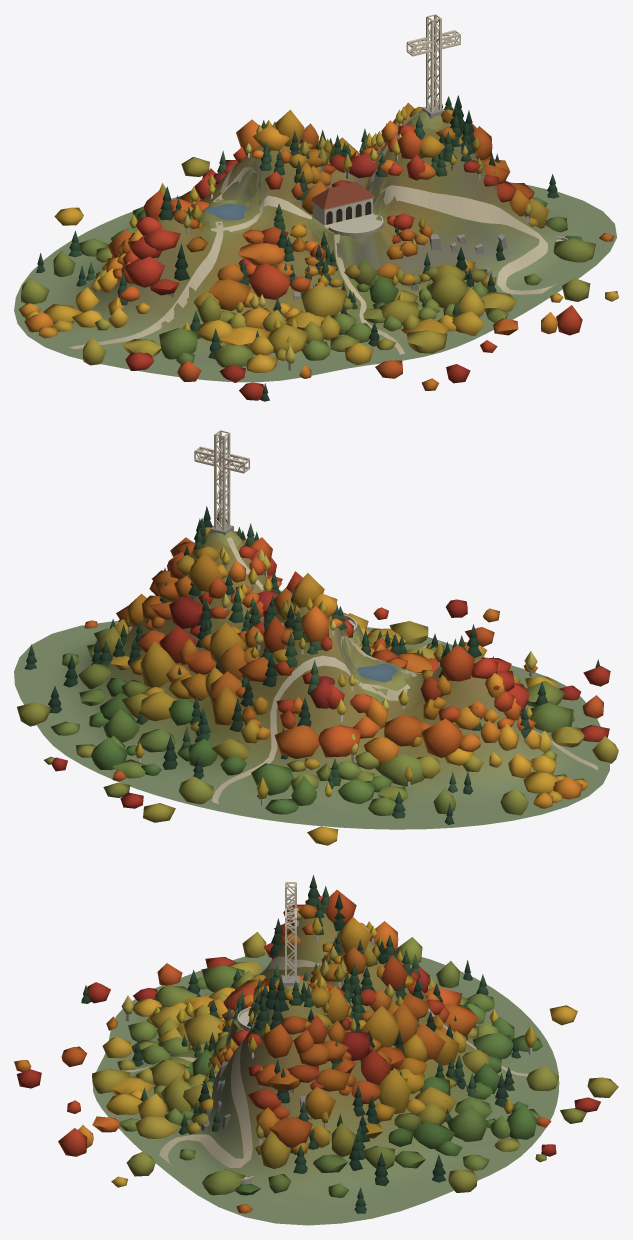
The model's file is mont-royal.glb.
The picture shows the model from 3 angles, top to bottom: view 1: azimuth 30°, elevation 25°; view 2: azimuth 150°, elevation 25°; view 3: azimuth 270°, elevation 25°; orthographic projection. The views are drawn at different scales.
Parts seen in each view (by area): view 1: mont-royal; view 2: mont-royal; view 3: mont-royal.
Boxes of the visible parts, left/top/right/bottom form: mont-royal: left=14, top=14, right=618, bottom=401; mont-royal: left=14, top=430, right=618, bottom=845; mont-royal: left=14, top=875, right=618, bottom=1225.
Size of the model in its own units: 230 by 96.13 by 209.
